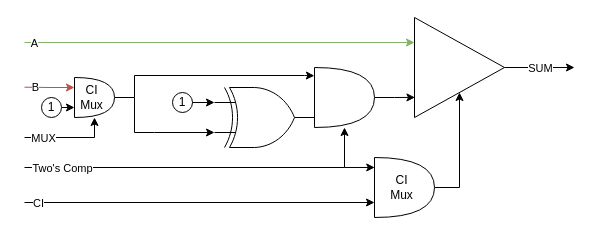
Some shapes in this 600 by 235 pixel diagram are drawn without their labels. The centre of each missing label's shape, as x and y in pixels:
"FULL ADDER" goes at (x=459, y=67).
"Func Mux" goes at (x=344, y=97).
